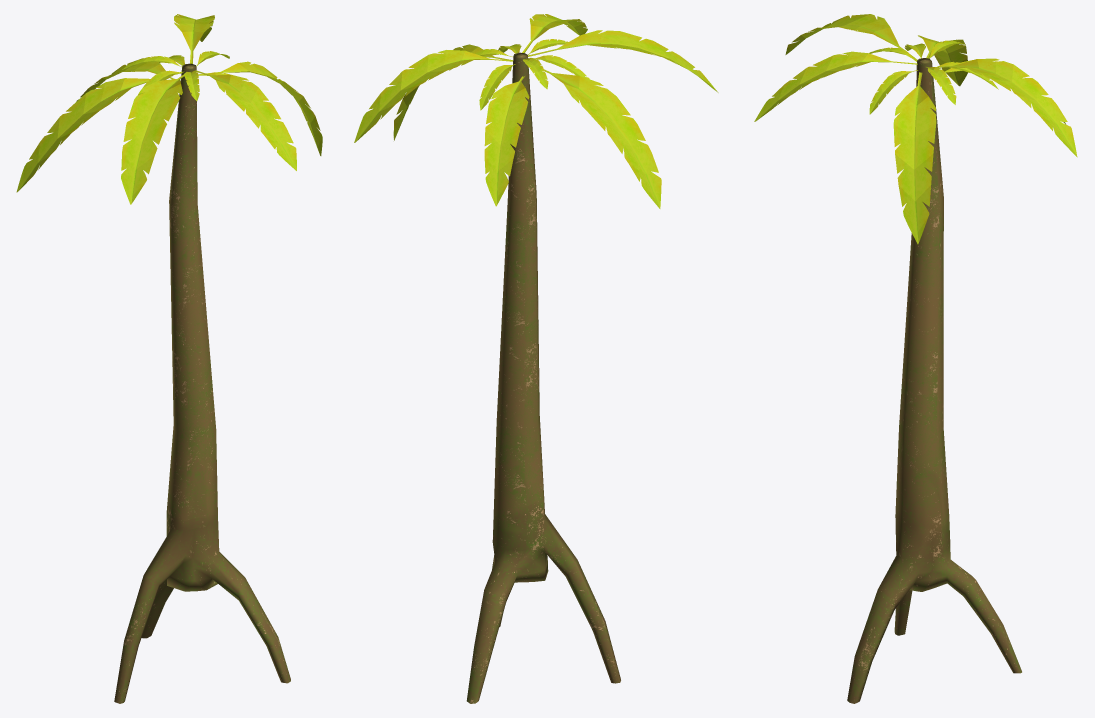
The model's file is Coqueiro_01.fbx.
The picture shows the model from 3 angles, left to right: view 1: azimuth 30°, elevation 25°; view 2: azimuth 150°, elevation 25°; view 3: azimuth 270°, elevation 25°; orthographic projection.
Visible parts, largest first — view 1: polySurface4; view 2: polySurface4; view 3: polySurface4.
Part boxes in pixels (x1,y1,x2,y2): polySurface4: [16, 14, 322, 703]; polySurface4: [354, 14, 718, 703]; polySurface4: [754, 14, 1077, 703].
Bounding box in the file's own units: 8.11 × 16.67 × 7.96.
